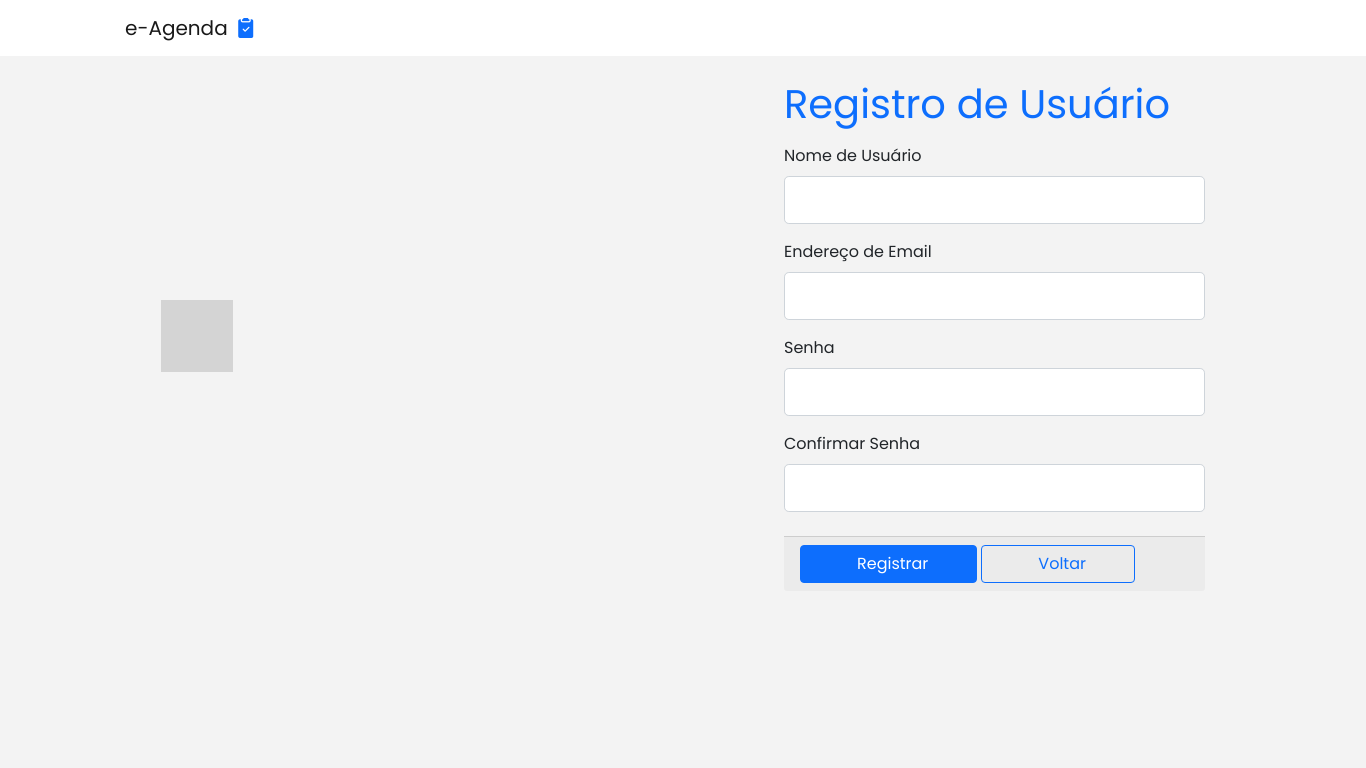
Test: Processo de Registro do Usuario › Deve notificar sobre formulario invalido
Type "Testes Cypress" into the field labelled "Nome de Usuário" at (995, 200), box left=784, top=176, right=1205, bottom=224
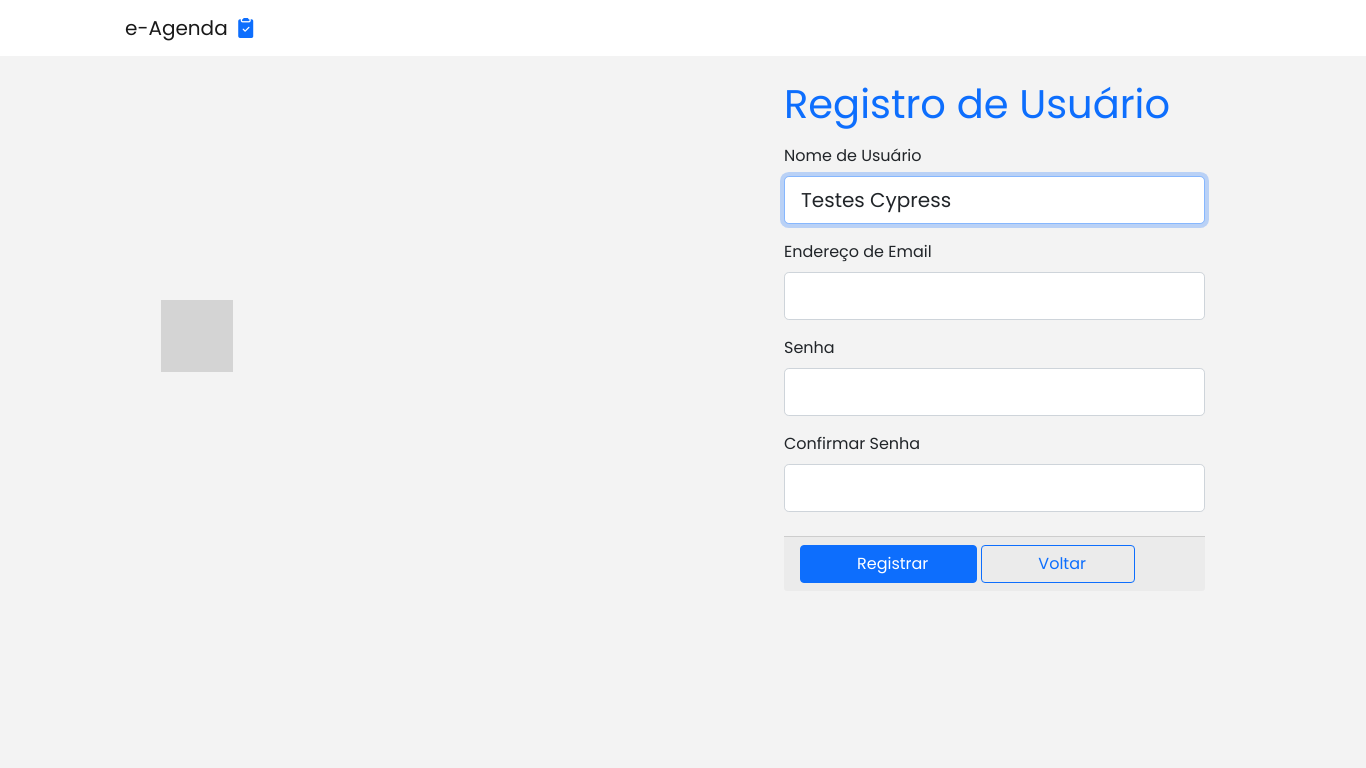
Type "testador@cypress.com" into the field labelled "Endereço de Email" at (995, 296), box left=784, top=272, right=1205, bottom=320
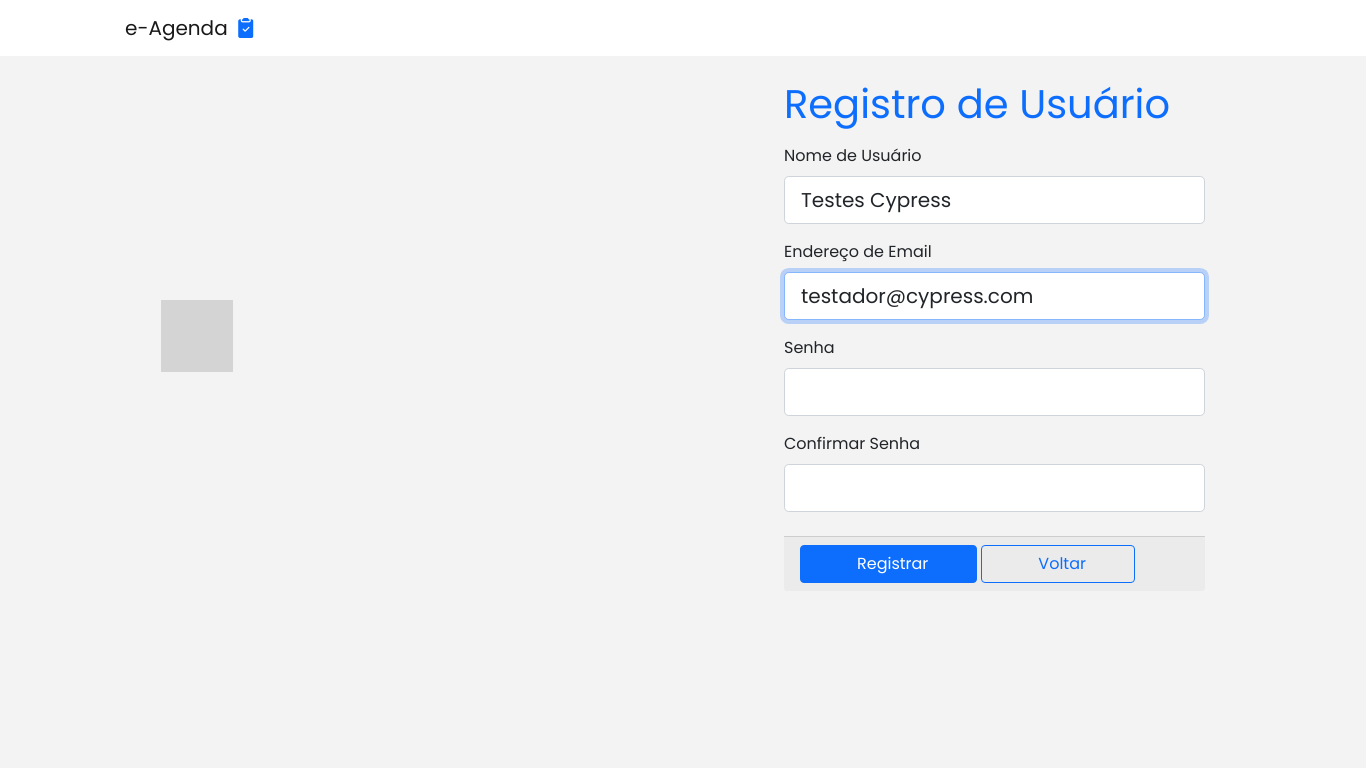
Type "Teste" into the password field labelled "Senha" at (995, 392), box left=784, top=368, right=1205, bottom=416
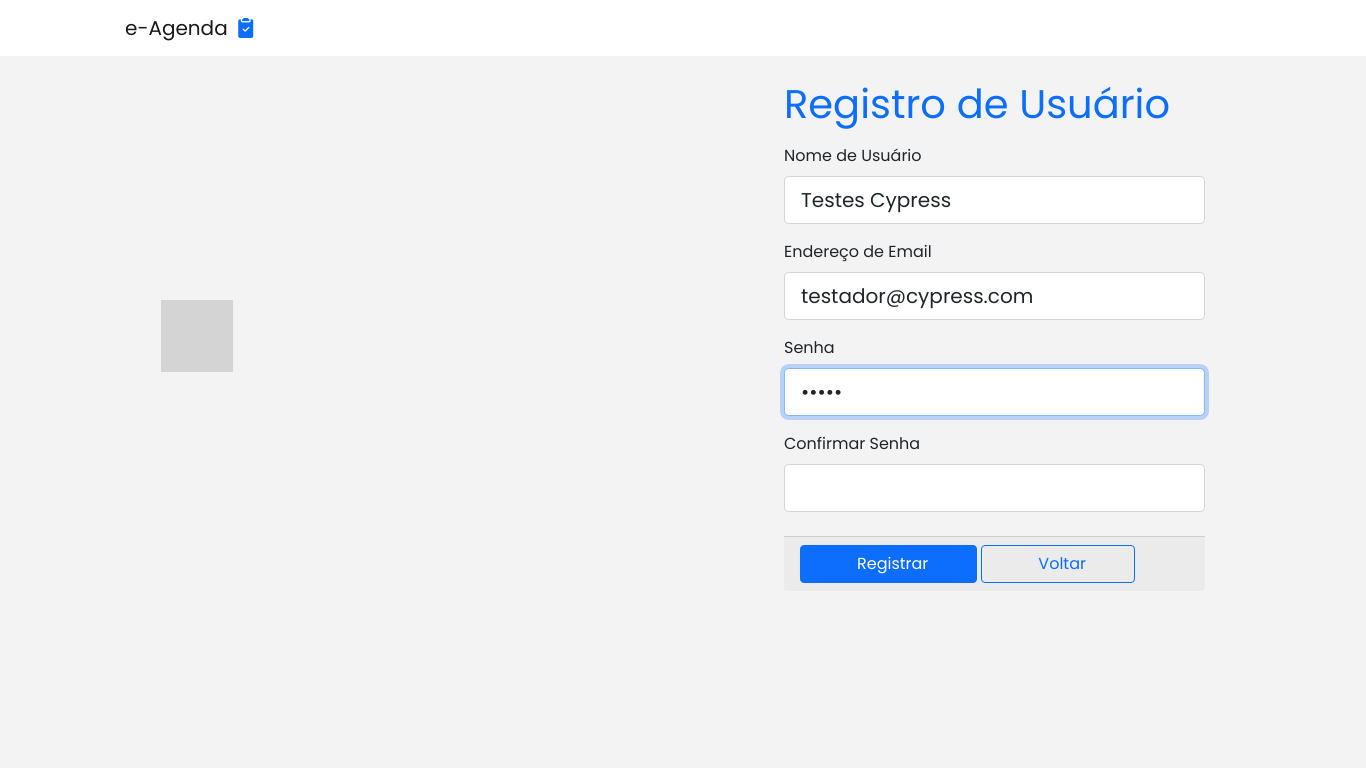
Type "Teste" into the password field labelled "Confirmar Senha" at (995, 488), box left=784, top=464, right=1205, bottom=512
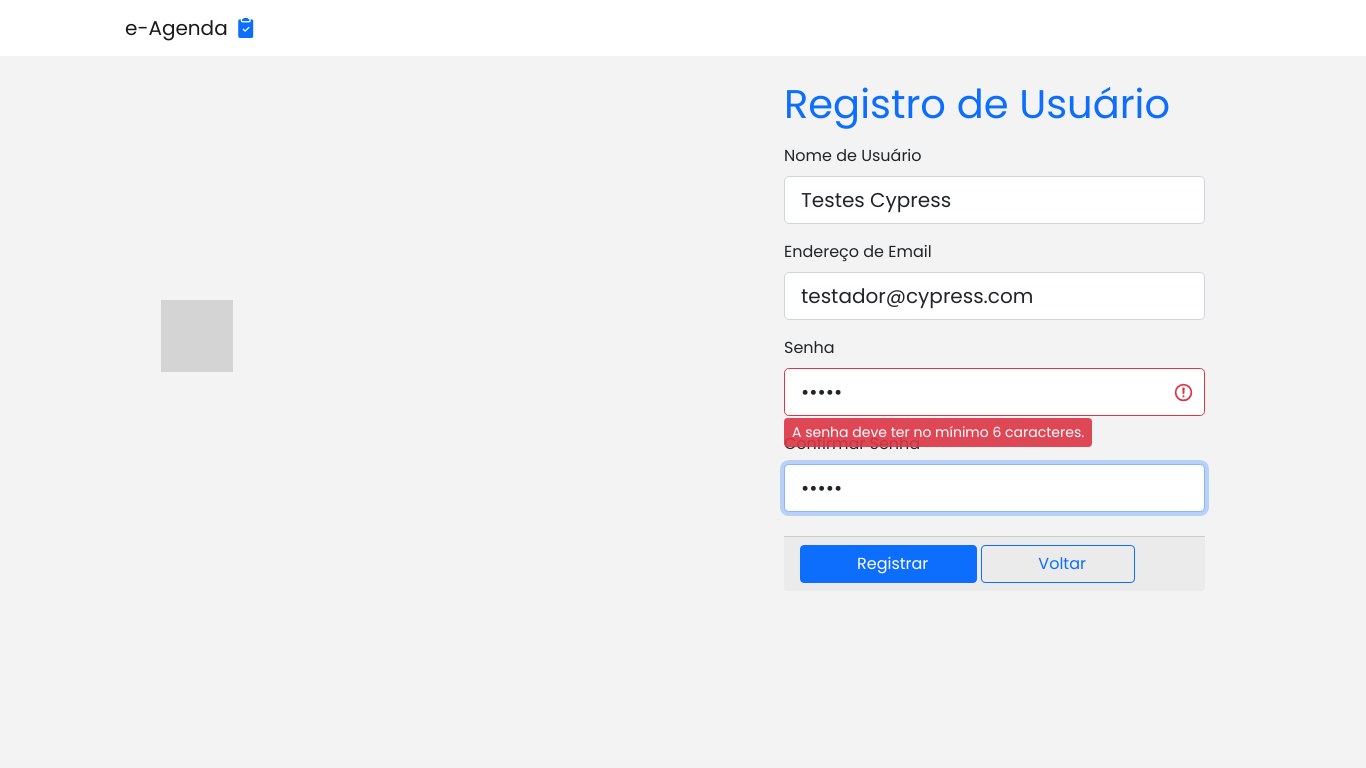
Click the button "Registrar" at (889, 564), box left=800, top=545, right=977, bottom=583
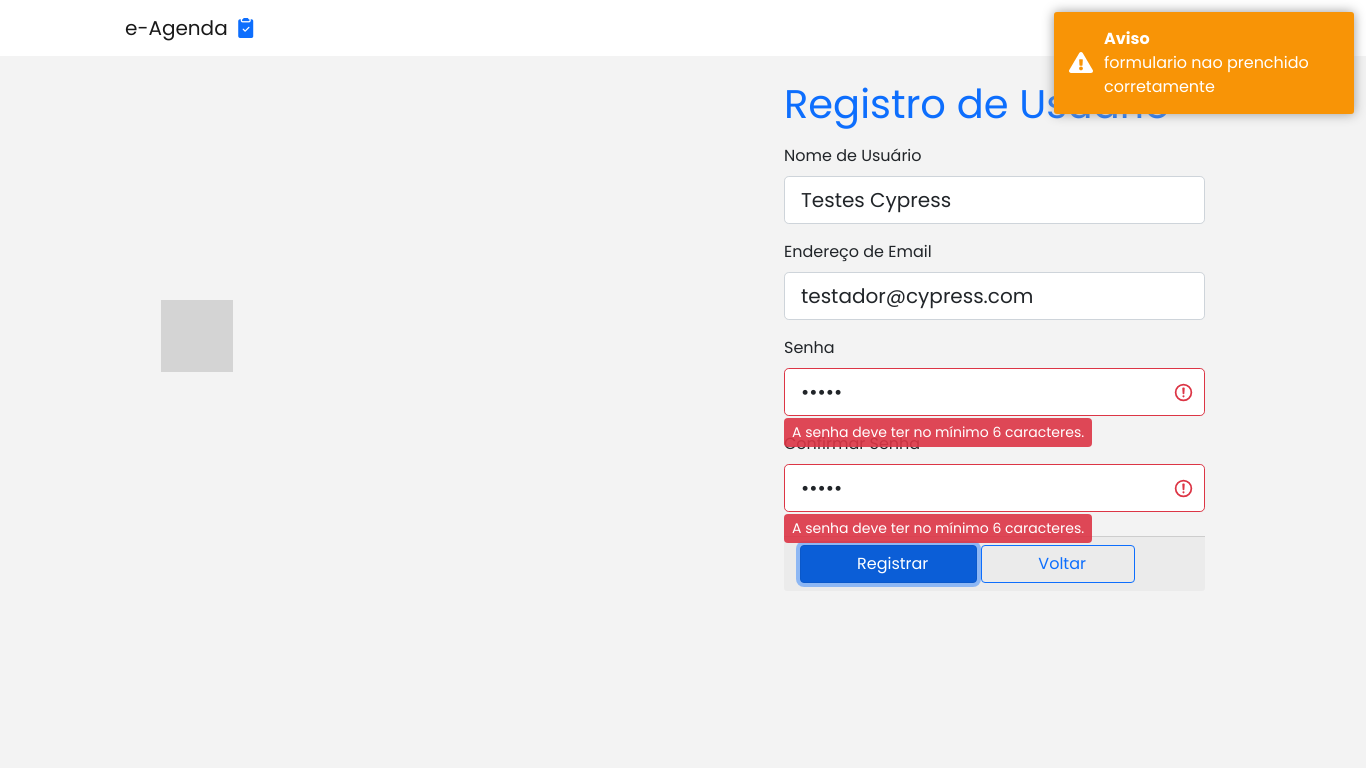
Expected: the text "formulario nao prenchido corretamente" is shown, left=1104, top=51, right=1339, bottom=99
